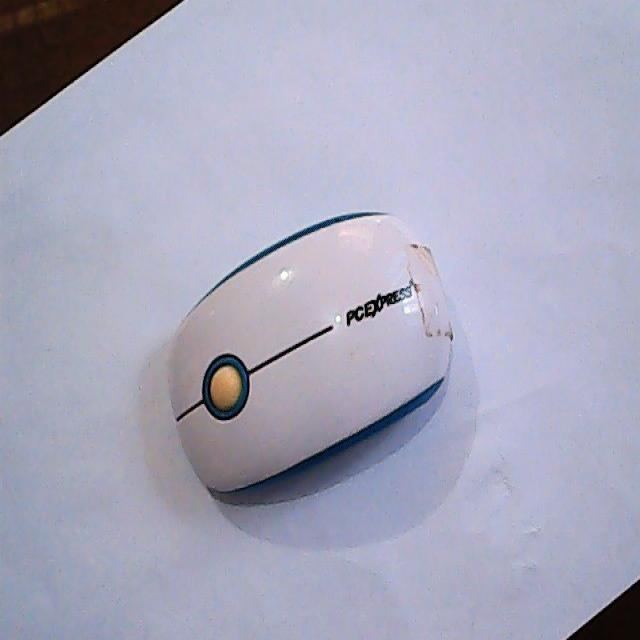-laptop-: (167, 209, 456, 498)
